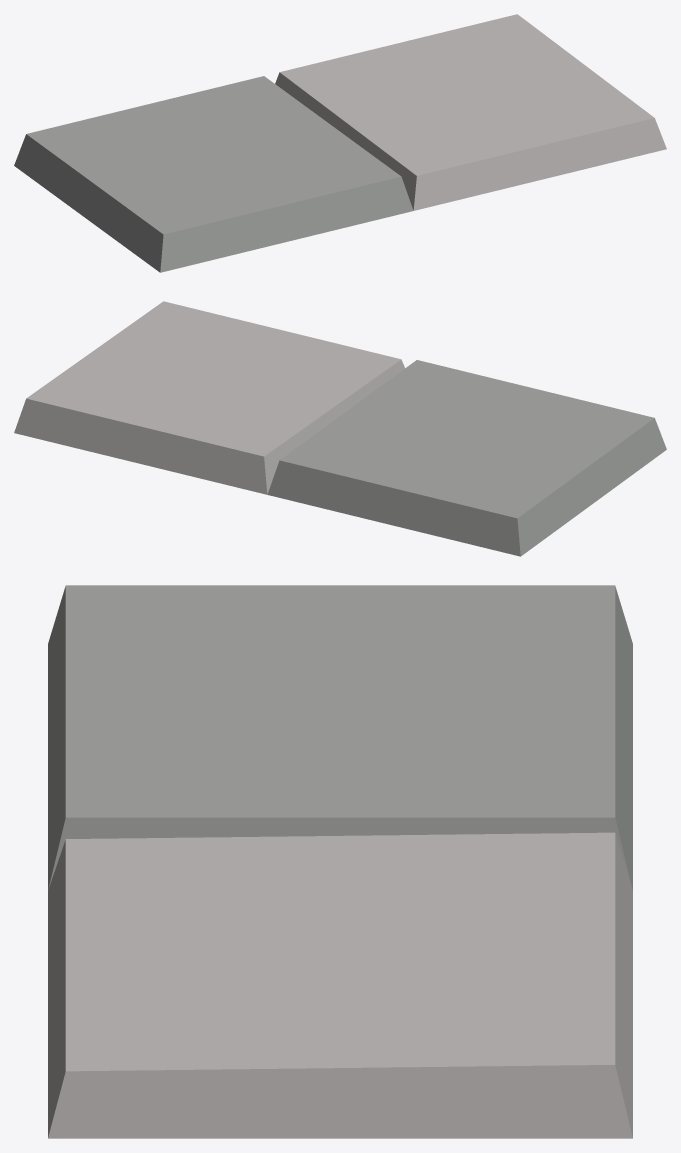
The model's file is Rock_Tiles_m_06.fbx.
3 views of the same model, one above another, from view 1: azimuth 30°, elevation 25°; view 2: azimuth 150°, elevation 25°; view 3: azimuth 270°, elevation 25° (orthographic). The views are drawn at different scales.
Parts seen in each view (by area): view 1: Rock_Tiles_m_06; view 2: Rock_Tiles_m_06; view 3: Rock_Tiles_m_06.
Boxes of the visible parts, x1,y1,x2,y2 form: Rock_Tiles_m_06: (14, 14, 666, 272); Rock_Tiles_m_06: (14, 301, 666, 556); Rock_Tiles_m_06: (48, 585, 632, 1138).
Size of the model in its own units: 80 by 5 by 40.
